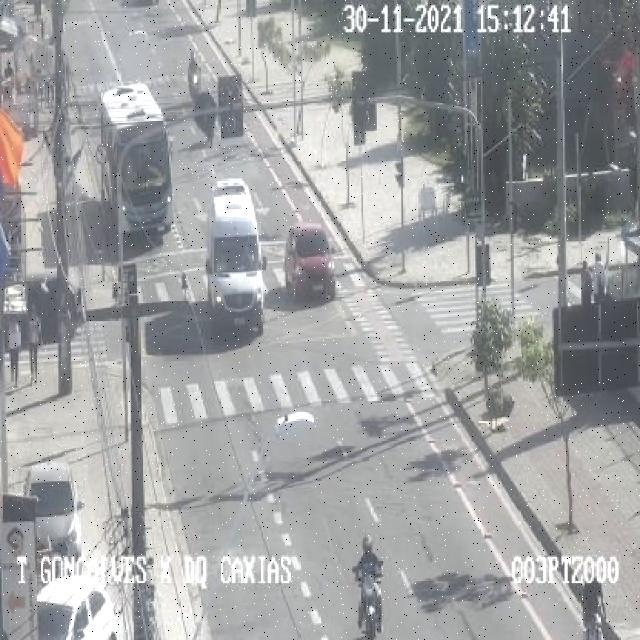Bus: (98, 83, 174, 242)
Car: (21, 460, 82, 560), (35, 576, 124, 638), (283, 224, 334, 303)
Van: (202, 175, 270, 346)
